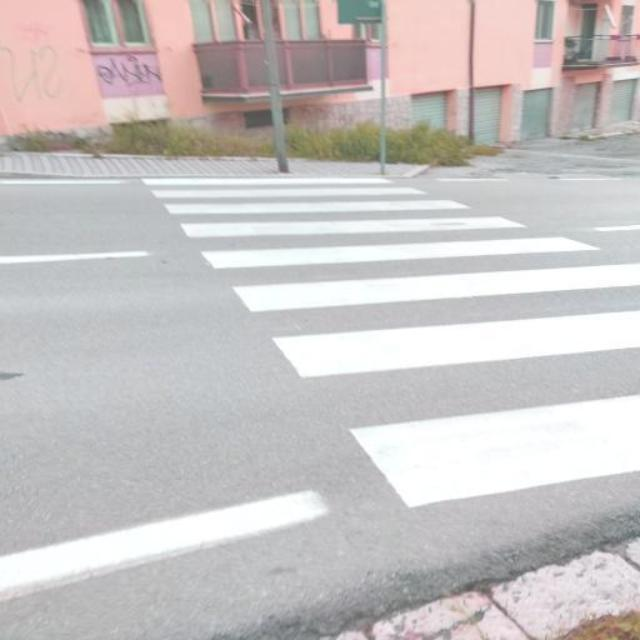sidewalk: (143, 177, 639, 508)
